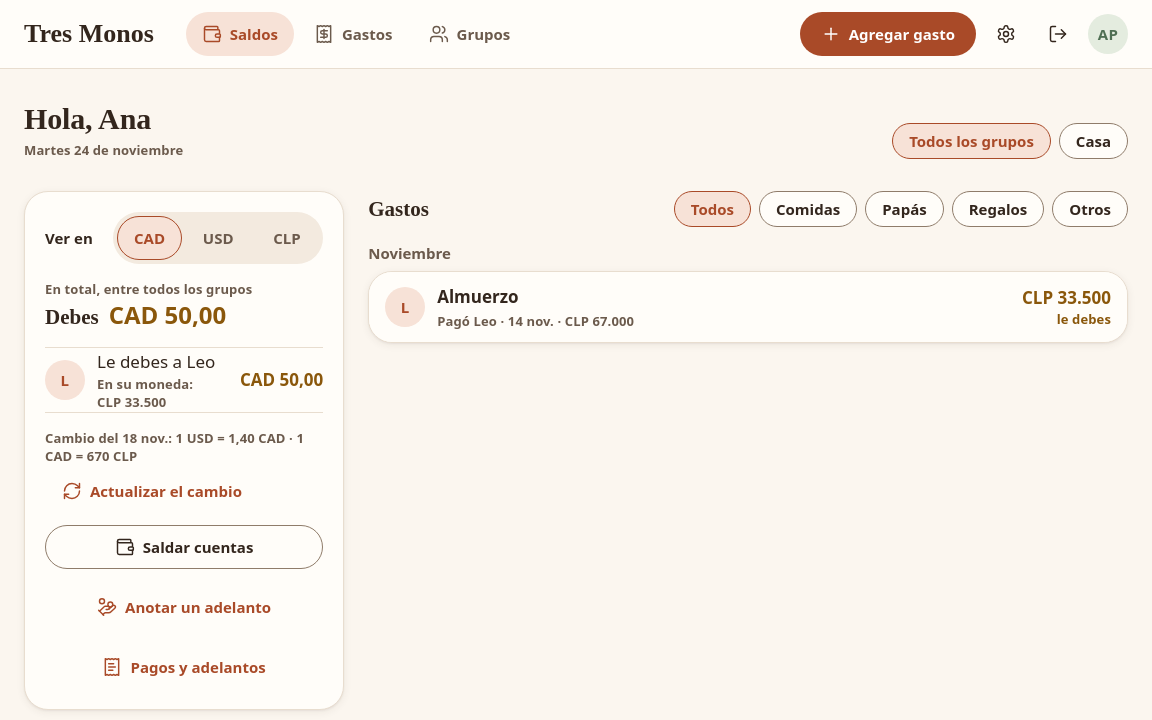
Test: DashboardScreen › adding an expense › shows who is ticked as the choice, and ticks everyone again on an equal split
This screenshot has width=1152, height=720.
Click the button "Agregar gasto": [888, 34] box x1=800 y1=12 x2=976 y2=56
(page scrolled)
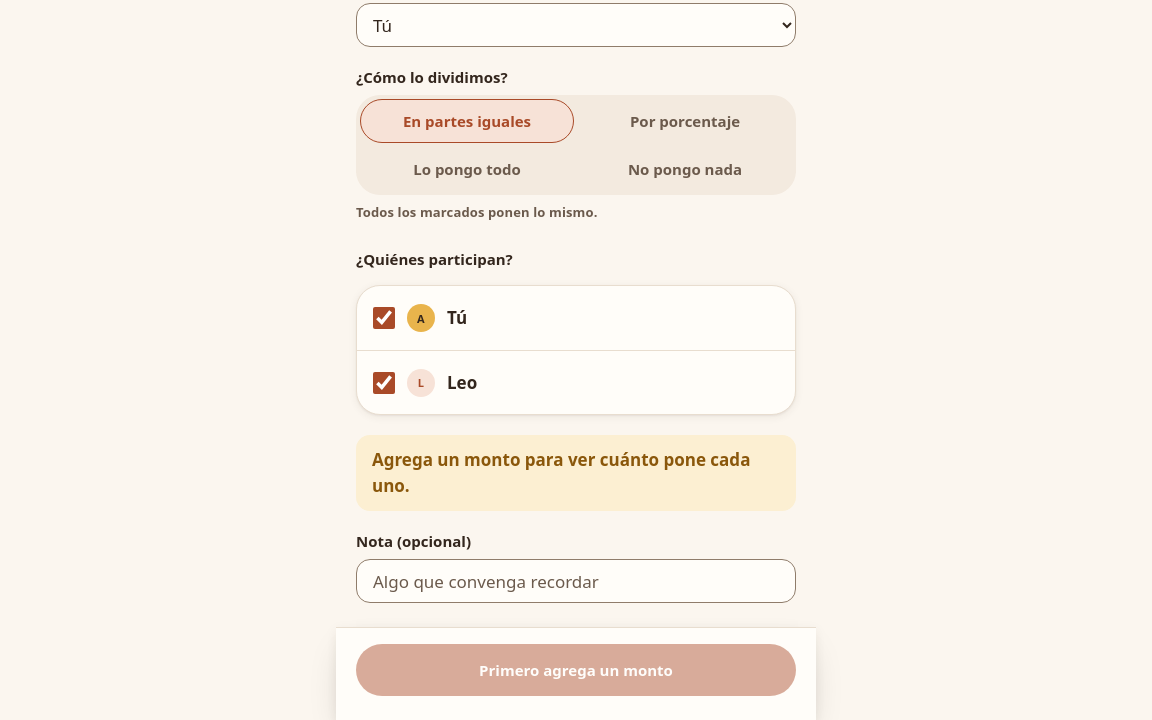
Click the checkbox labelled "L Leo": [384, 382] box x1=373 y1=372 x2=395 y2=394
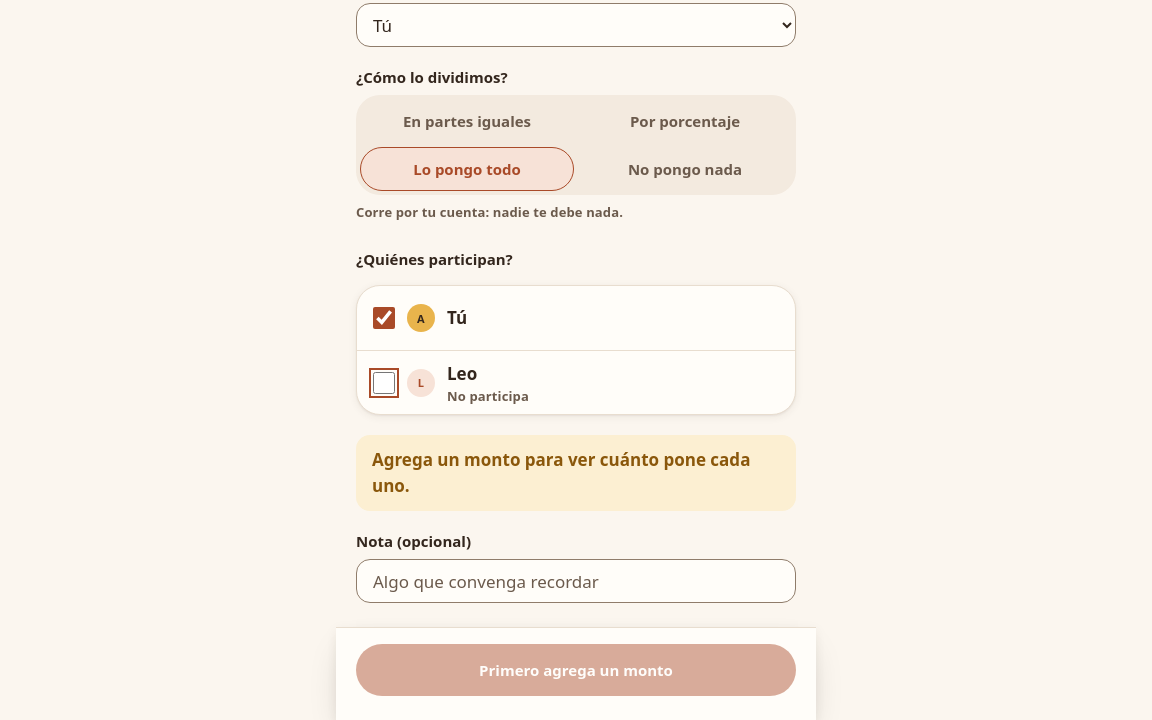
Click the button "En partes iguales": [467, 121] box x1=360 y1=99 x2=574 y2=143
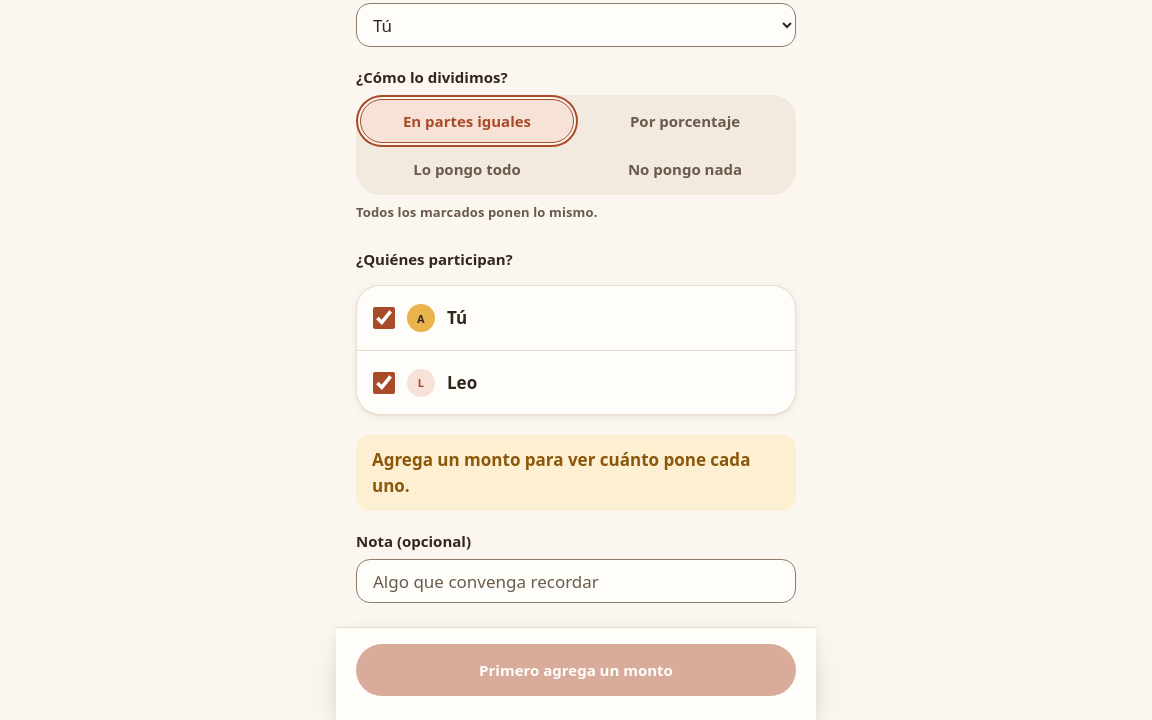
Expected: the checkbox labelled "L Leo" is checked, x1=373 y1=372 x2=395 y2=394
